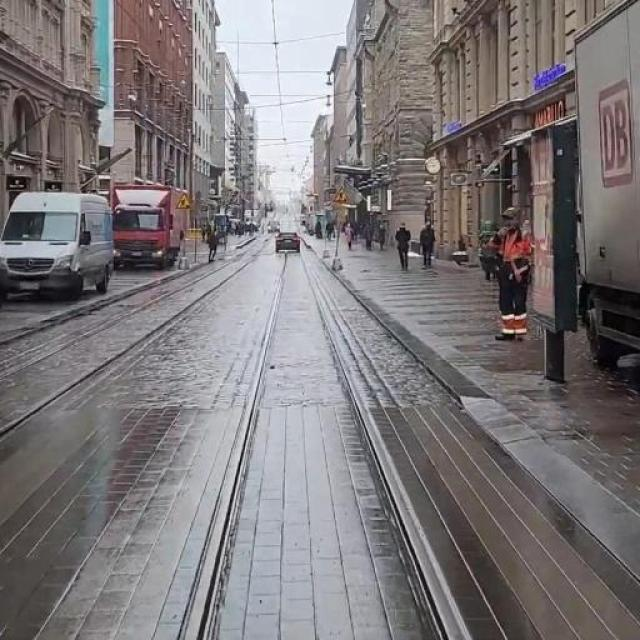people: (492, 203, 536, 339), (421, 221, 442, 268), (396, 220, 414, 266)
vehicle: (0, 183, 120, 300), (111, 177, 192, 270), (269, 223, 306, 254)
